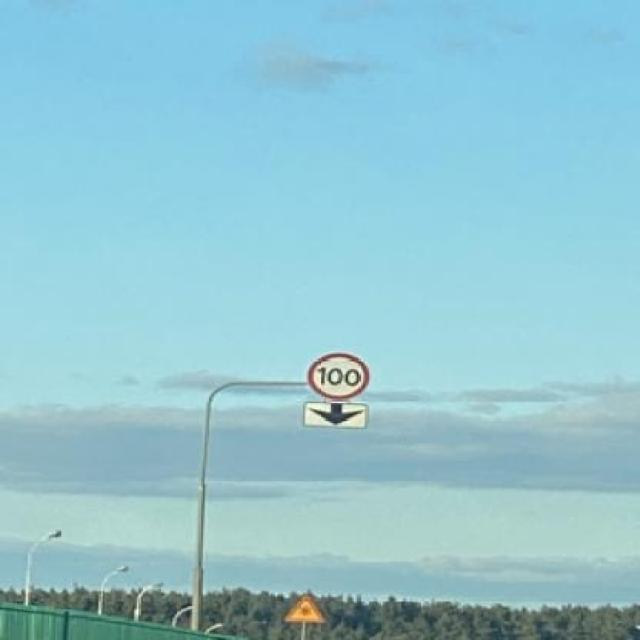forb_speed_over_100: (308, 352, 368, 399)
